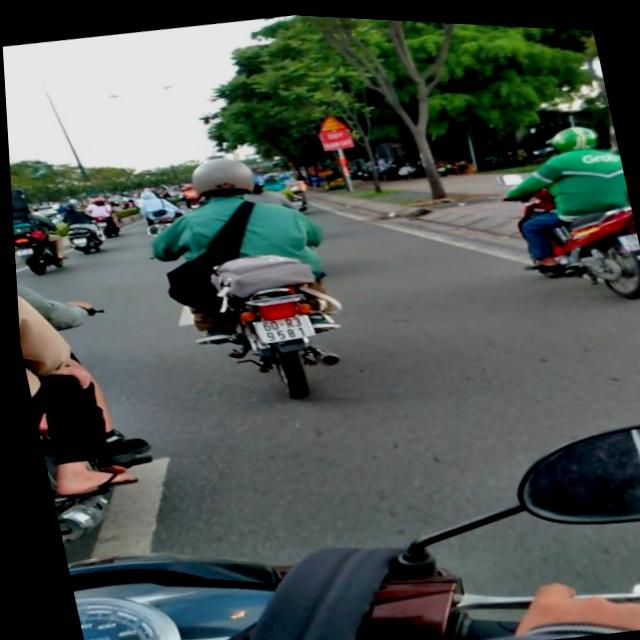Di cham: (314, 109, 348, 131)
